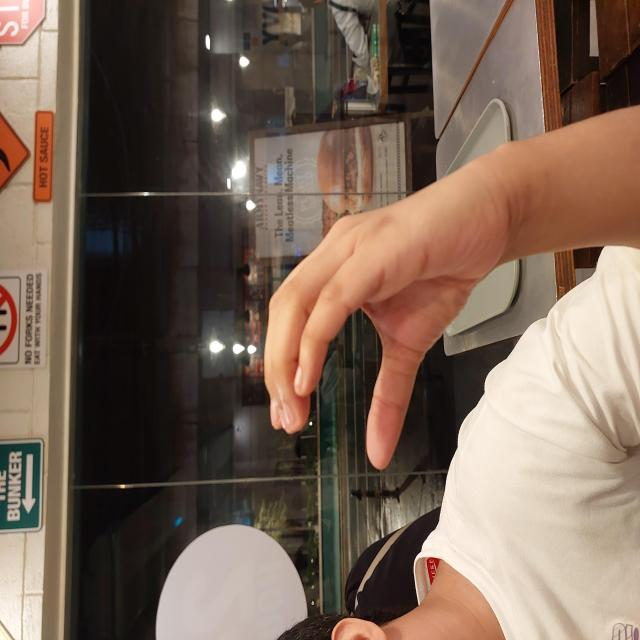C: (170, 262, 465, 511)
